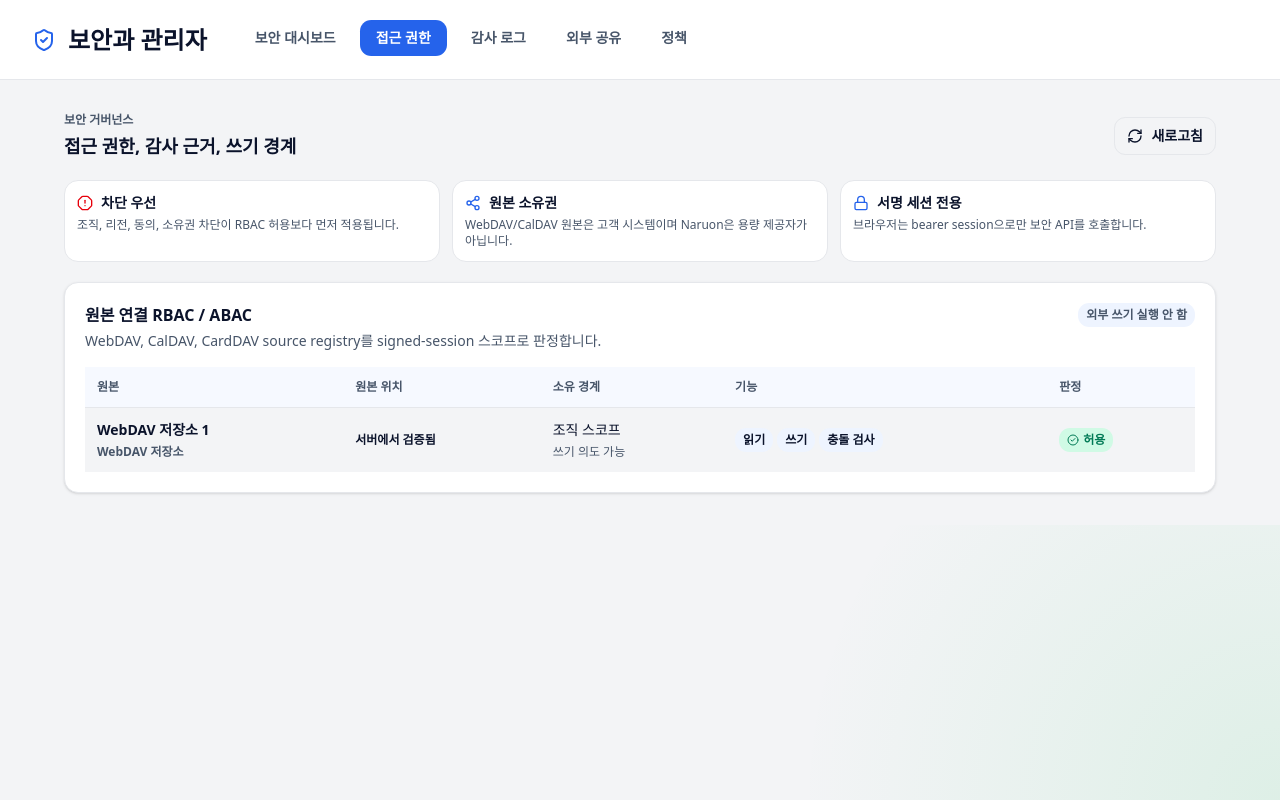
Test: SecurityPage › renders audit sharing and policy tabs without inert placeholders
Click the button "감사 로그" at [498, 38], box x1=455 y1=20 x2=542 y2=56
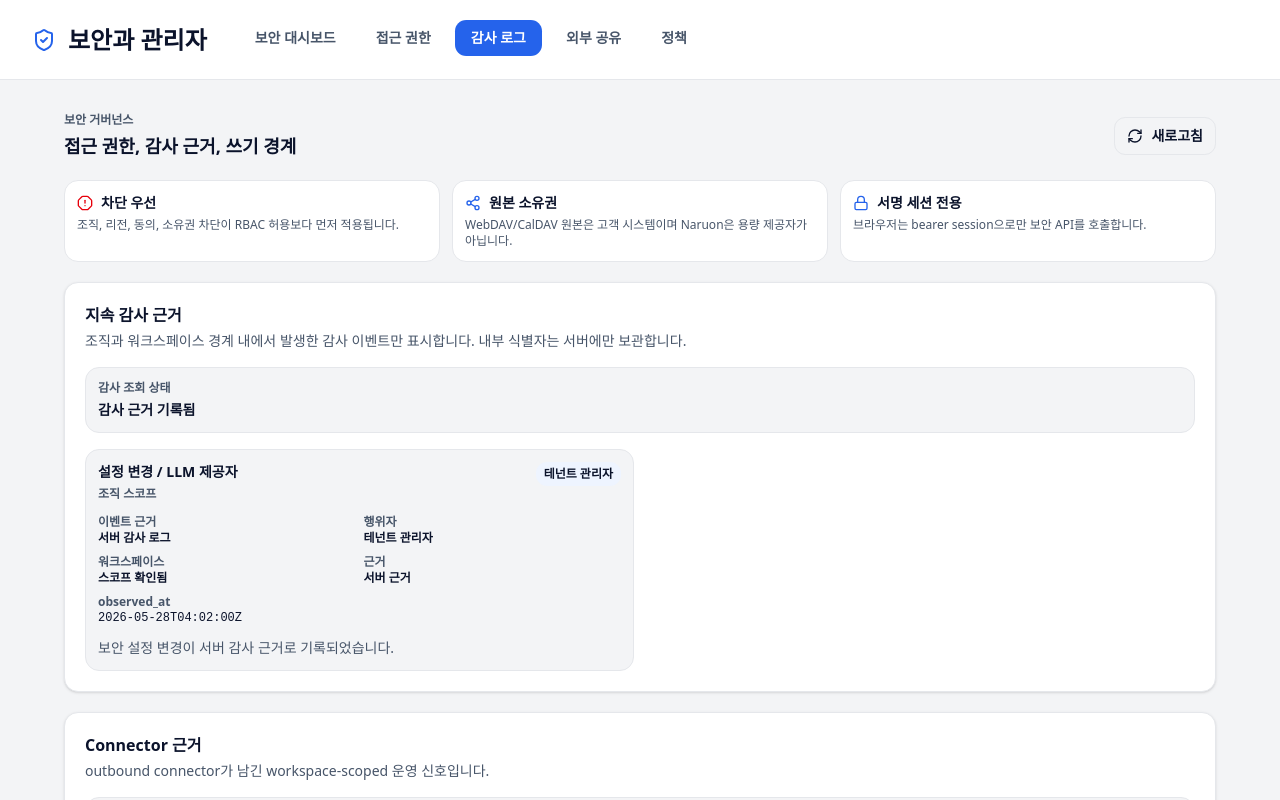
Now the text "지속 감사 근거" is shown, box x1=85 y1=304 x2=182 y2=326
Now the text "설정 변경 / LLM 제공자" is shown, box x1=98 y1=462 x2=238 y2=482
Now the text "서버 감사 로그" is shown, box x1=98 y1=529 x2=170 y2=546
Click the button "외부 공유" at [594, 38], box x1=550 y1=20 x2=637 y2=56
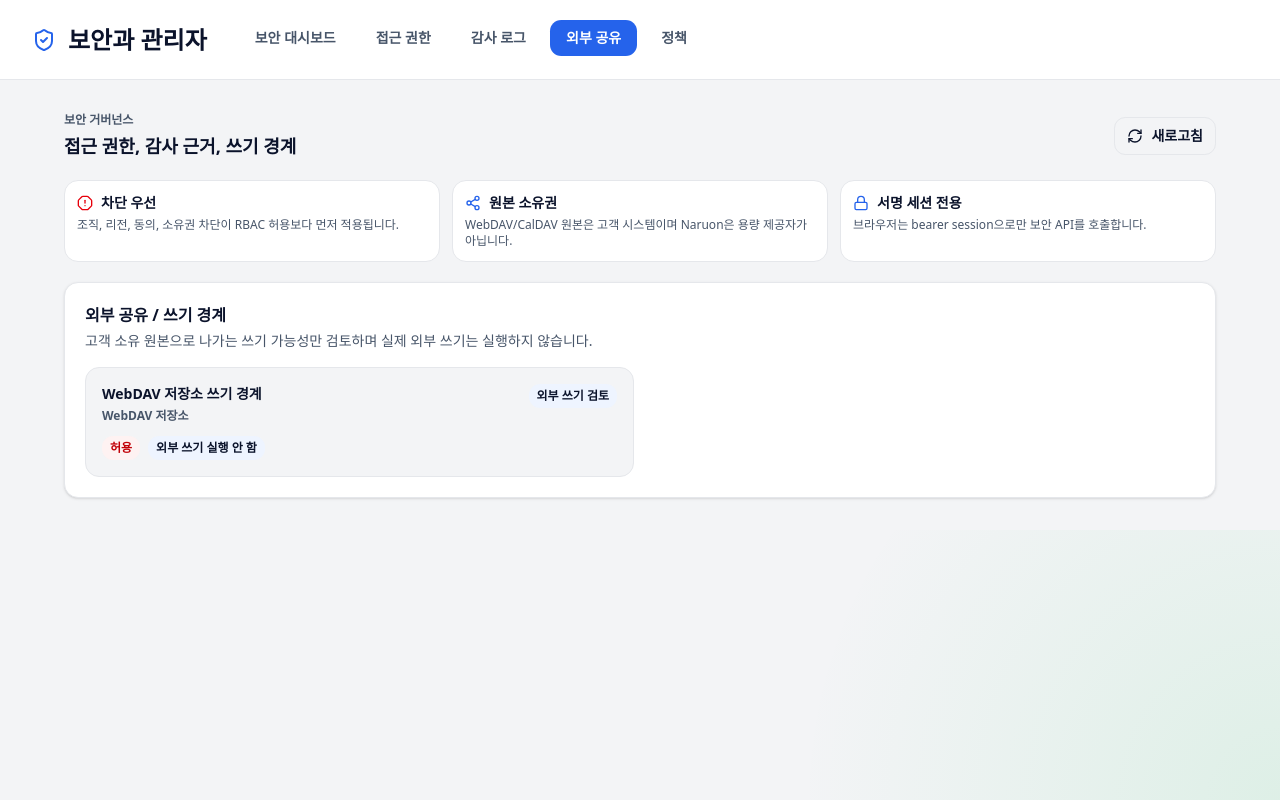
Now the text "WebDAV 저장소 쓰기 경계" is shown, box x1=102 y1=384 x2=262 y2=404
Now the text "외부 쓰기 검토" is shown, box x1=528 y1=384 x2=617 y2=408
Now the text "외부 쓰기 실행 안 함" is shown, box x1=148 y1=436 x2=265 y2=460
Click the button "정책" at [674, 38], box x1=645 y1=20 x2=703 y2=56
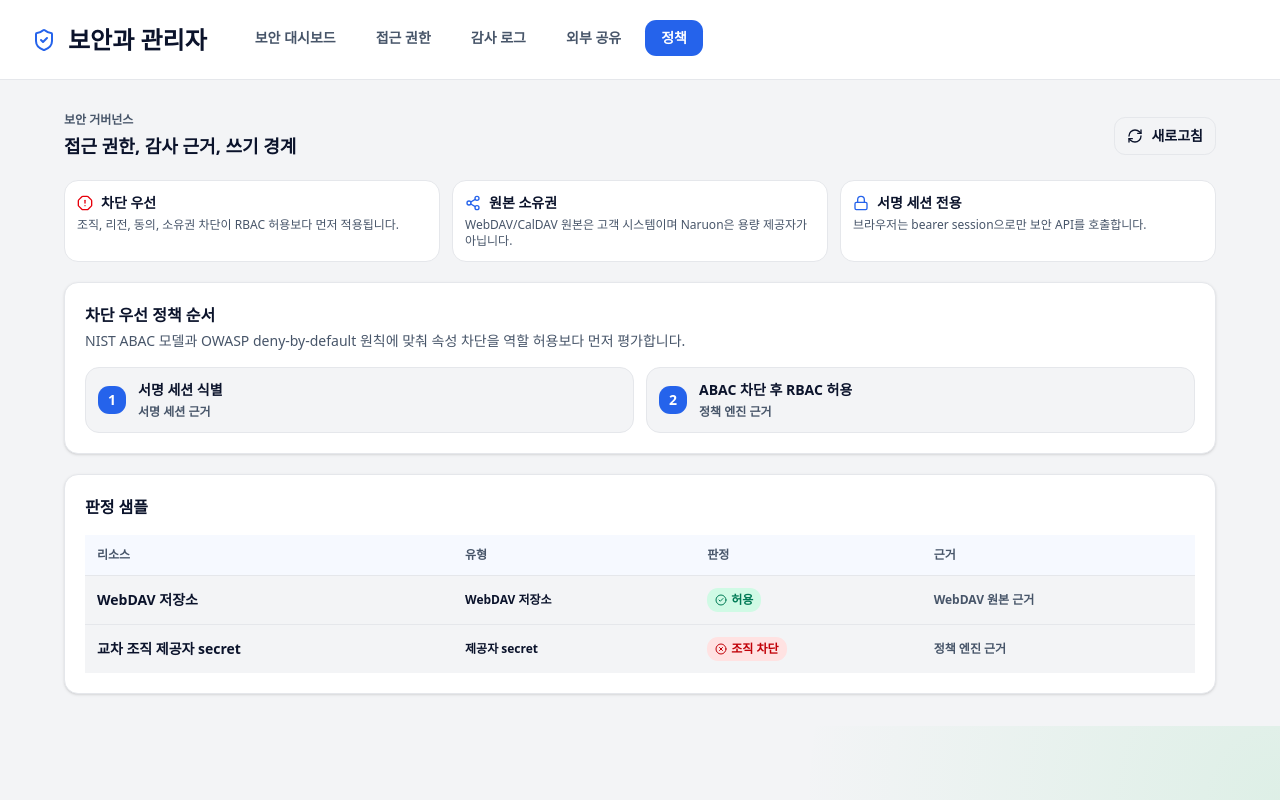
Now the text "차단 우선 정책 순서" is shown, box x1=85 y1=304 x2=215 y2=326
Now the text "ABAC 차단 후 RBAC 허용" is shown, box x1=699 y1=380 x2=852 y2=400
Now the text "교차 조직 제공자 secret" is shown, box x1=85 y1=624 x2=453 y2=673
